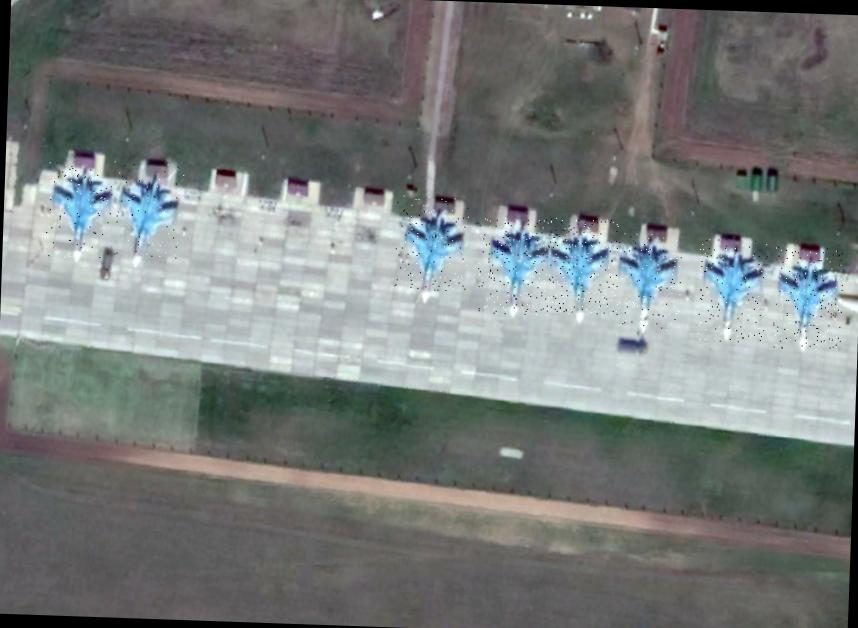A19: (696, 238, 768, 342), (772, 246, 844, 350), (43, 161, 118, 259), (111, 161, 186, 259), (394, 195, 469, 293), (476, 217, 551, 315), (608, 232, 683, 330), (544, 218, 618, 316)
